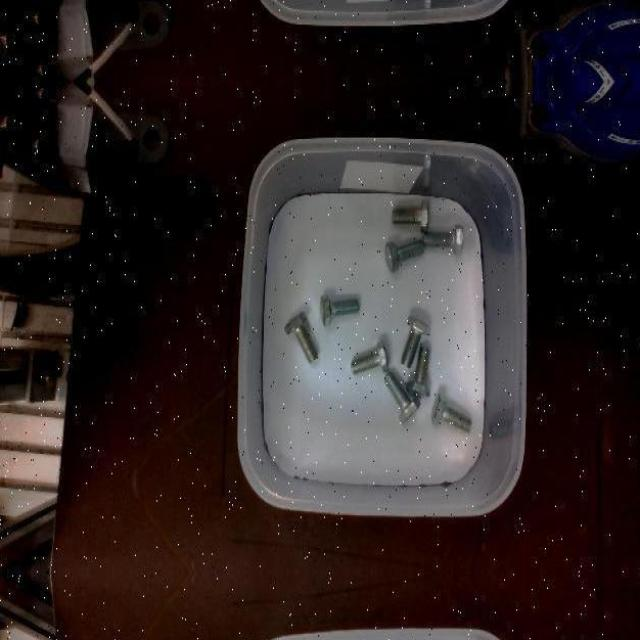screw: (384, 372, 421, 424), (283, 311, 317, 364), (430, 392, 472, 433), (401, 315, 430, 366), (349, 338, 388, 372), (423, 223, 464, 255), (384, 238, 424, 270), (320, 295, 359, 327), (406, 345, 430, 396), (392, 198, 428, 230)
